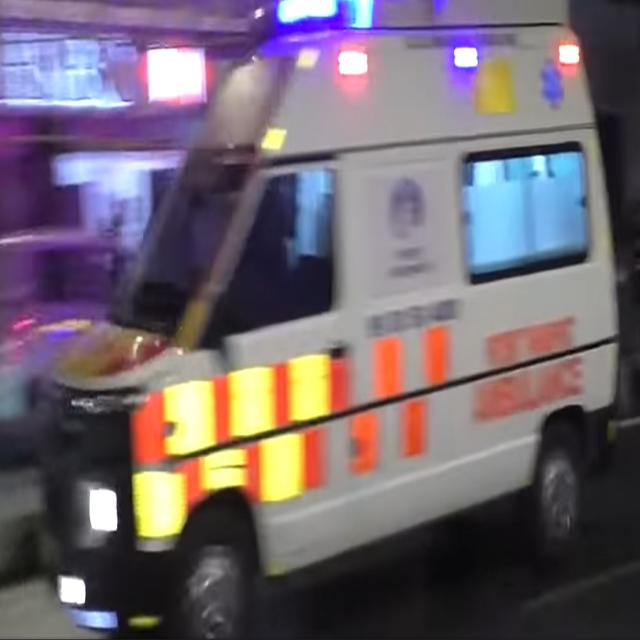ambulance: (12, 0, 622, 637)
